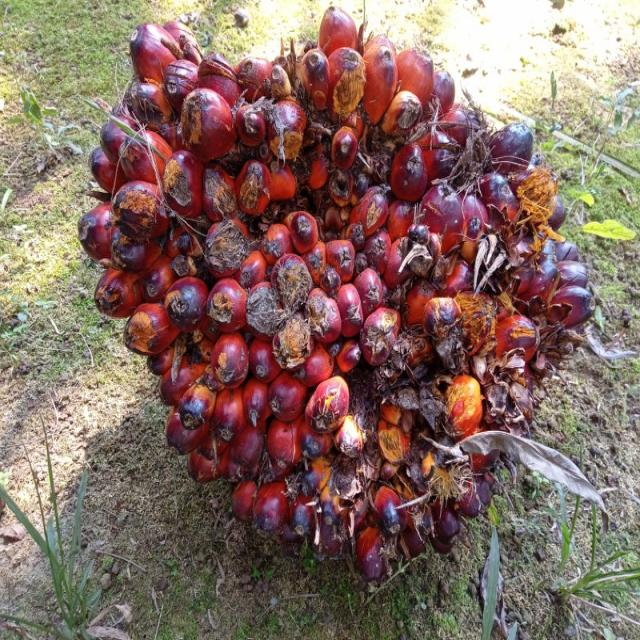fraksi 1: (58, 7, 612, 612)
